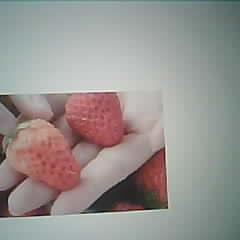straw-ripe: (6, 120, 80, 190), (66, 92, 124, 145)
